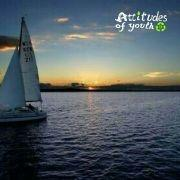fanchuan: (2, 13, 51, 122)
